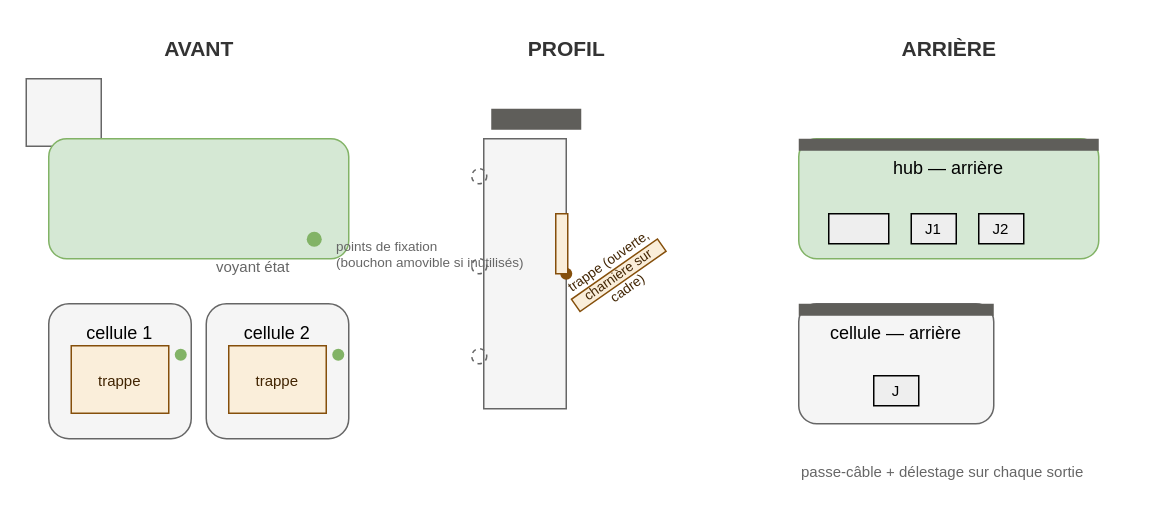
Some shapes in this 1155 by 524 pixel diagram are drawn without their labels. The centre of each missing label's shape, as x and y in pixels:
alim: the point at 858,228
hub écran + calcul + réseau: the point at 198,198
rail (fixation murale): the point at 535,118
écran: the point at 63,111
